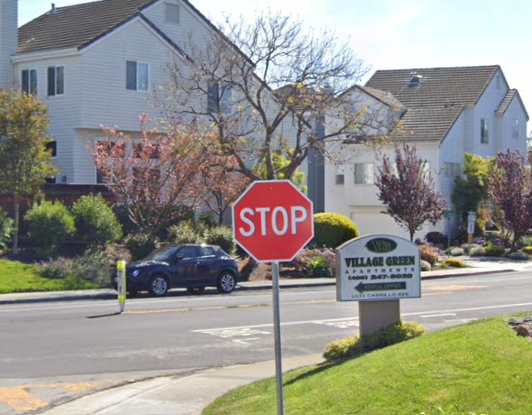stop_sign: (233, 178, 314, 262)
